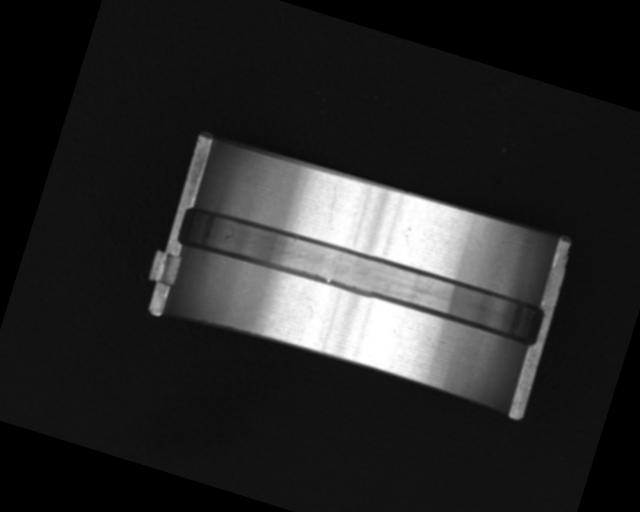gap: (177, 196, 549, 353)
nick: (324, 185, 343, 222)
